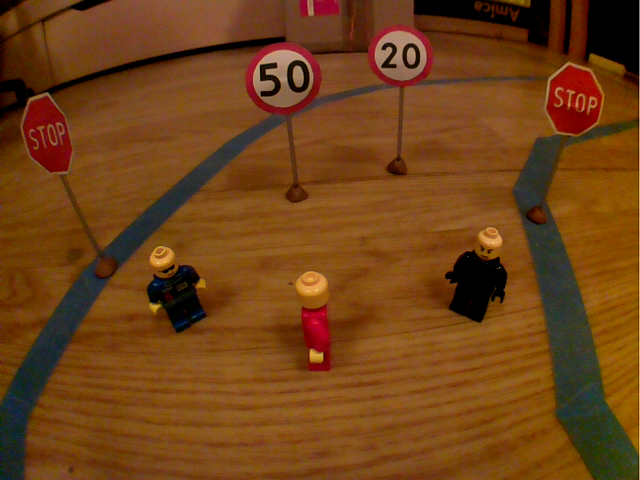Ograniczenie 20: (364, 21, 435, 91)
Ograniczenie 50: (242, 40, 326, 120)
Postac LEGO: (438, 222, 514, 334), (142, 240, 212, 337), (289, 268, 346, 374)
Stop: (14, 90, 81, 186), (540, 58, 609, 139)
